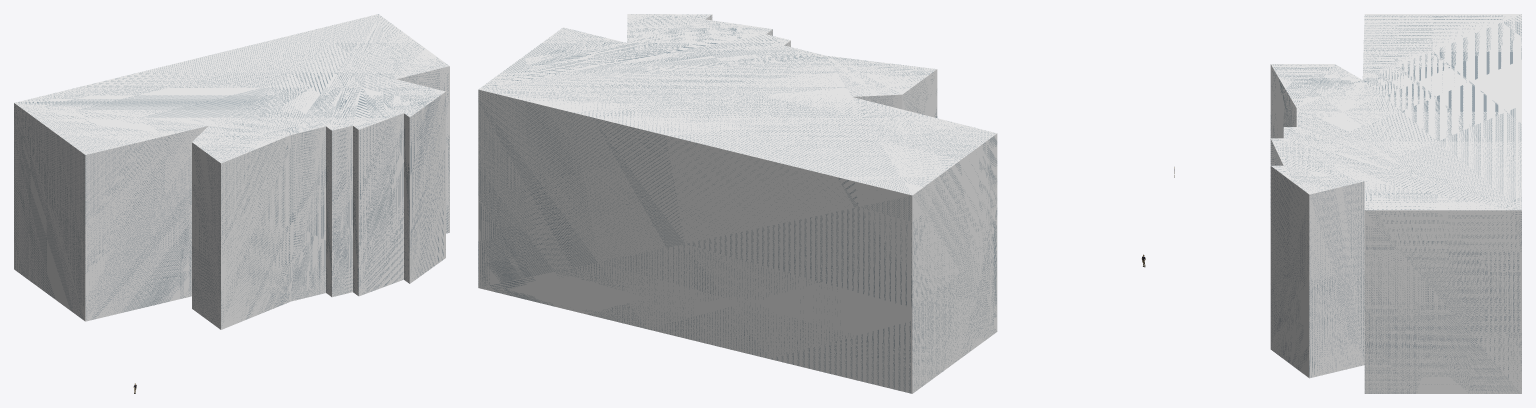
The model's file is Carrigton building.dae.
The picture shows the model from 3 angles, left to right: view 1: azimuth 30°, elevation 25°; view 2: azimuth 150°, elevation 25°; view 3: azimuth 270°, elevation 25°; orthographic projection. The views are drawn at different scales.
Visible parts, largest first — view 1: SketchUp; view 2: SketchUp; view 3: SketchUp.
Part boxes in pixels (x1=…): SketchUp: x1=14, y1=14, x2=449, y2=329; SketchUp: x1=478, y1=14, x2=997, y2=393; SketchUp: x1=1270, y1=14, x2=1521, y2=393.
Bounding box in the file's own units: 2815 × 1909 × 1113.
